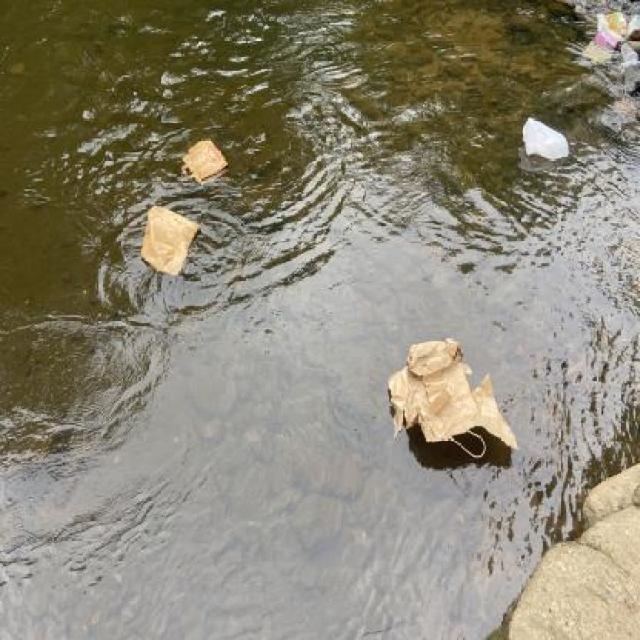Cardboard: (577, 12, 640, 68)
Paper: (384, 333, 522, 467), (139, 201, 203, 282), (178, 134, 230, 192)
Plastic: (519, 114, 573, 164)
